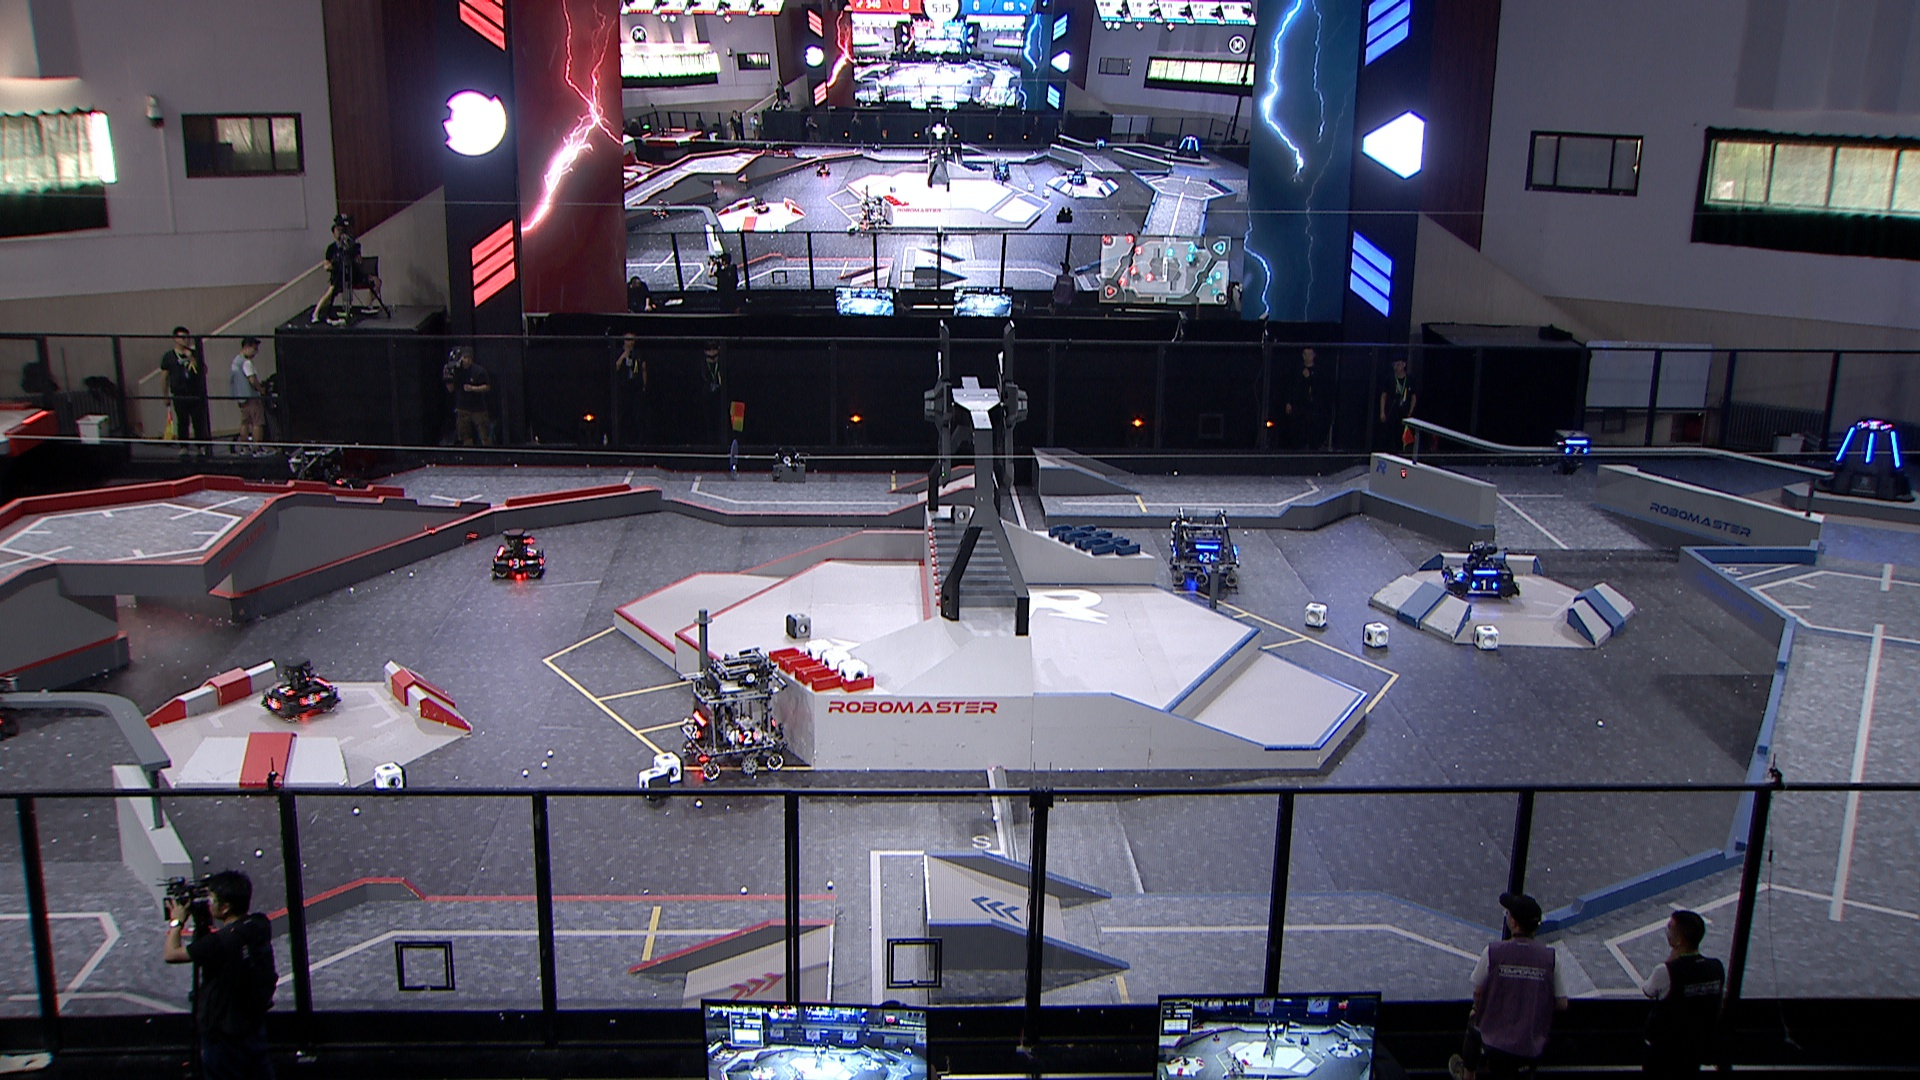armor: (1832, 425, 1855, 462), (1888, 429, 1902, 469), (1470, 578, 1499, 591), (737, 731, 760, 746), (299, 692, 320, 708), (1564, 444, 1589, 456), (1196, 550, 1216, 564), (508, 556, 527, 571), (1865, 433, 1874, 463), (262, 698, 281, 712), (276, 684, 295, 698), (688, 723, 702, 740), (1168, 546, 1182, 560), (527, 545, 539, 559), (334, 475, 349, 485), (344, 483, 357, 491)
base: (1812, 418, 1917, 504)
car: (678, 645, 789, 781), (1166, 502, 1242, 589), (258, 655, 342, 725), (1439, 541, 1524, 603), (287, 446, 363, 501), (489, 527, 547, 580)
ignore: (858, 196, 889, 233), (1171, 135, 1204, 161), (989, 157, 1011, 182), (650, 196, 671, 220), (1064, 164, 1087, 185), (749, 195, 771, 214), (1859, 419, 1888, 431), (814, 161, 831, 178)
watcher: (1547, 429, 1590, 475)
